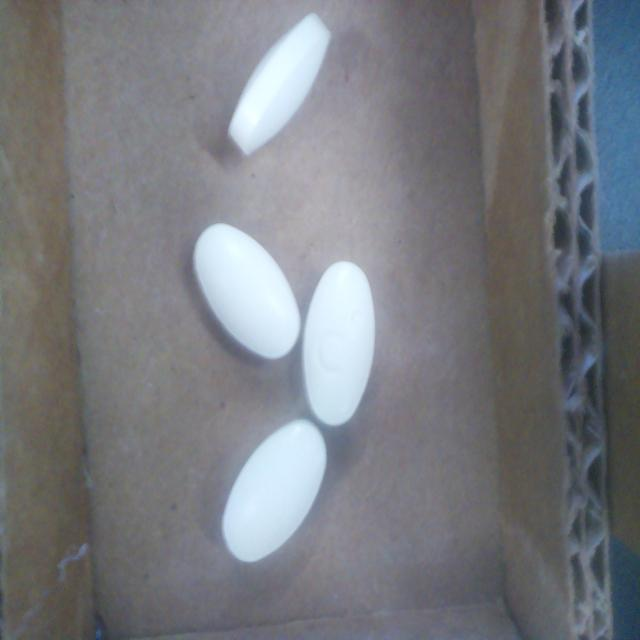pill: (222, 419, 327, 562), (228, 13, 331, 155), (194, 224, 300, 359), (302, 262, 375, 426)
